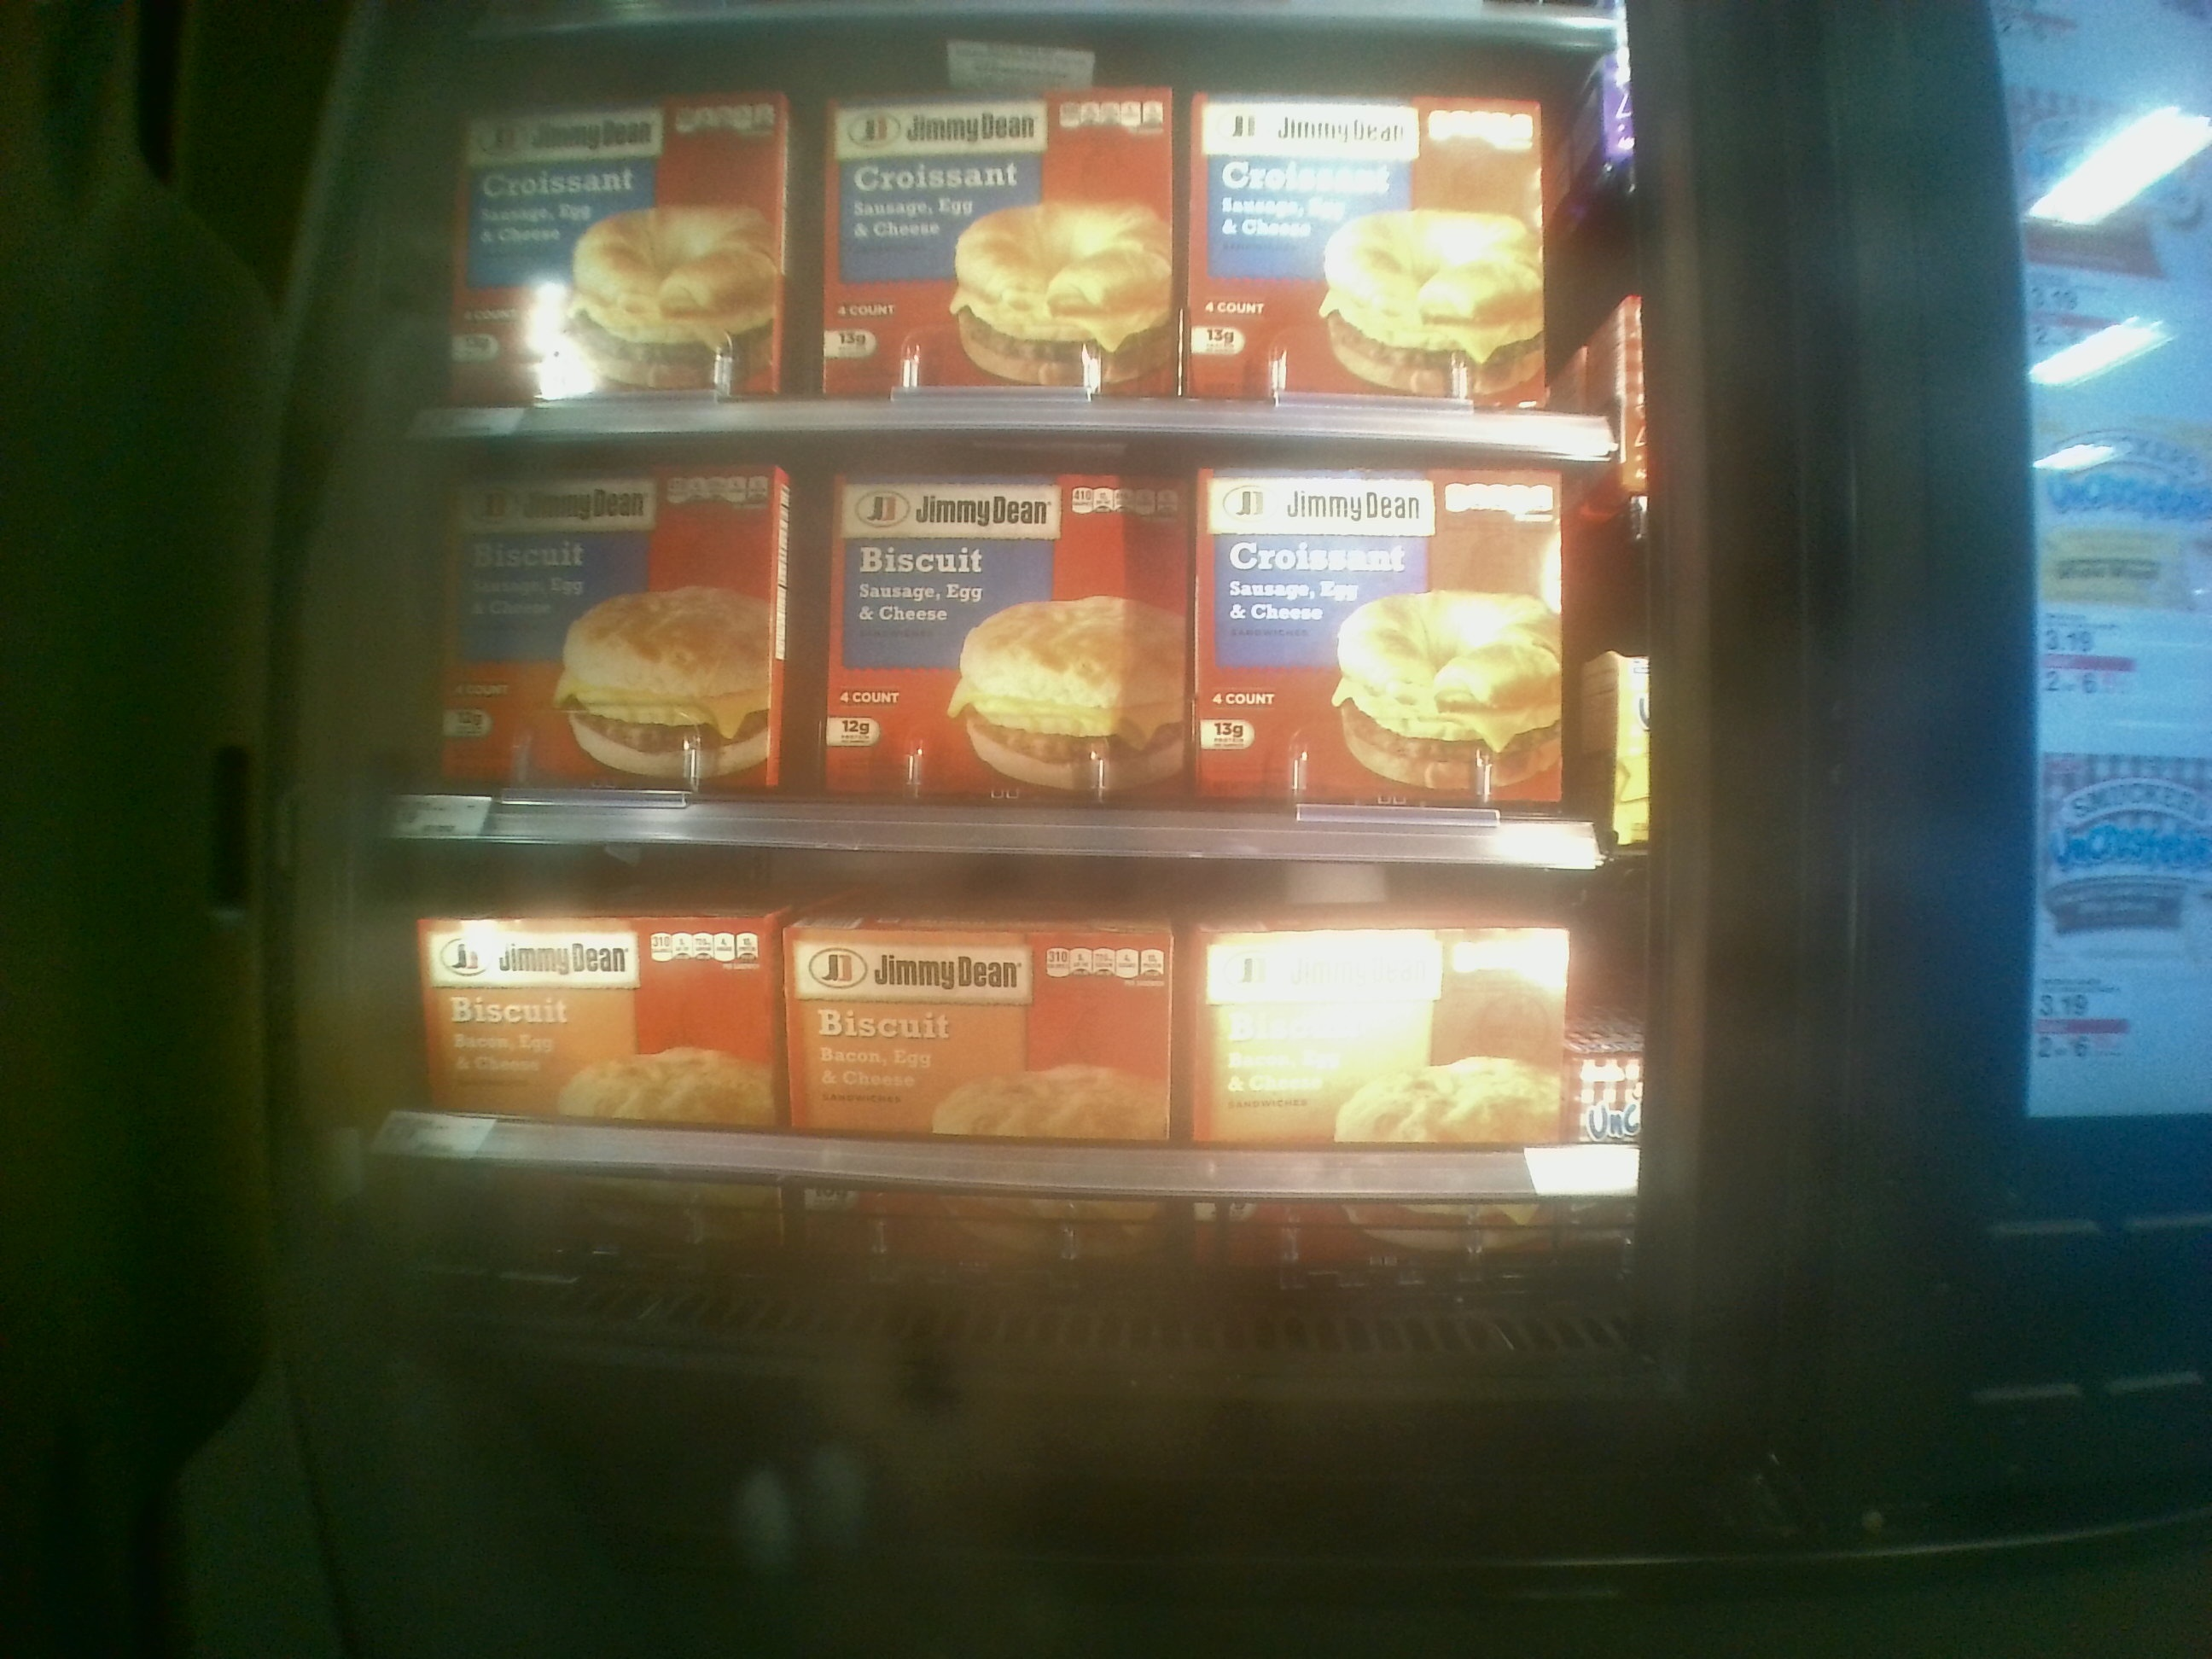shelf: (392, 422, 1611, 859)
